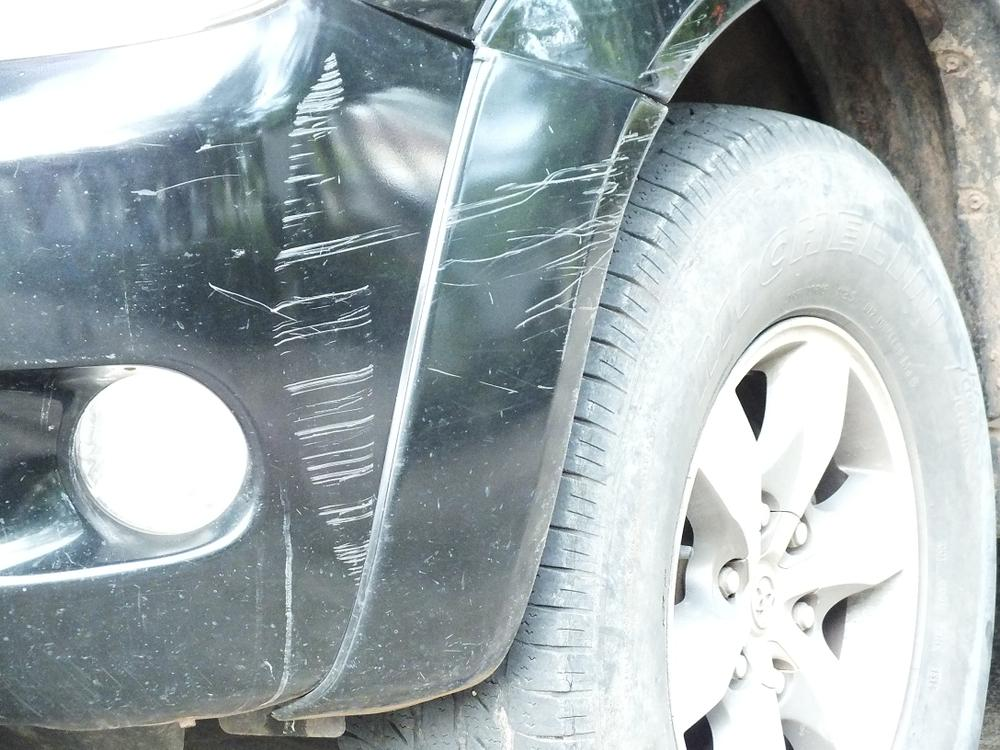scratch: (270, 45, 421, 591), (431, 120, 652, 400)
